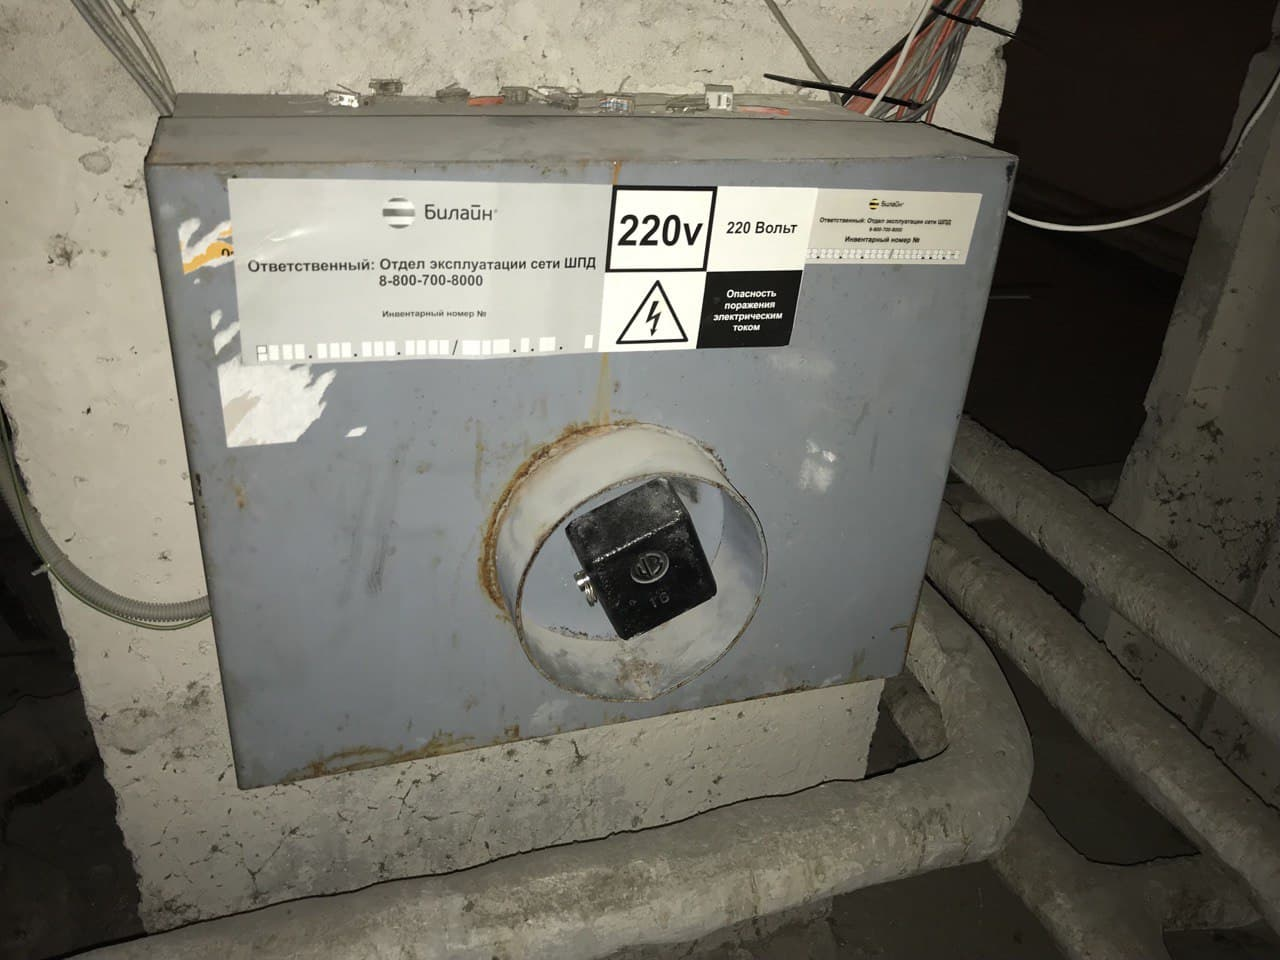shta-3: (136, 90, 1021, 788)
